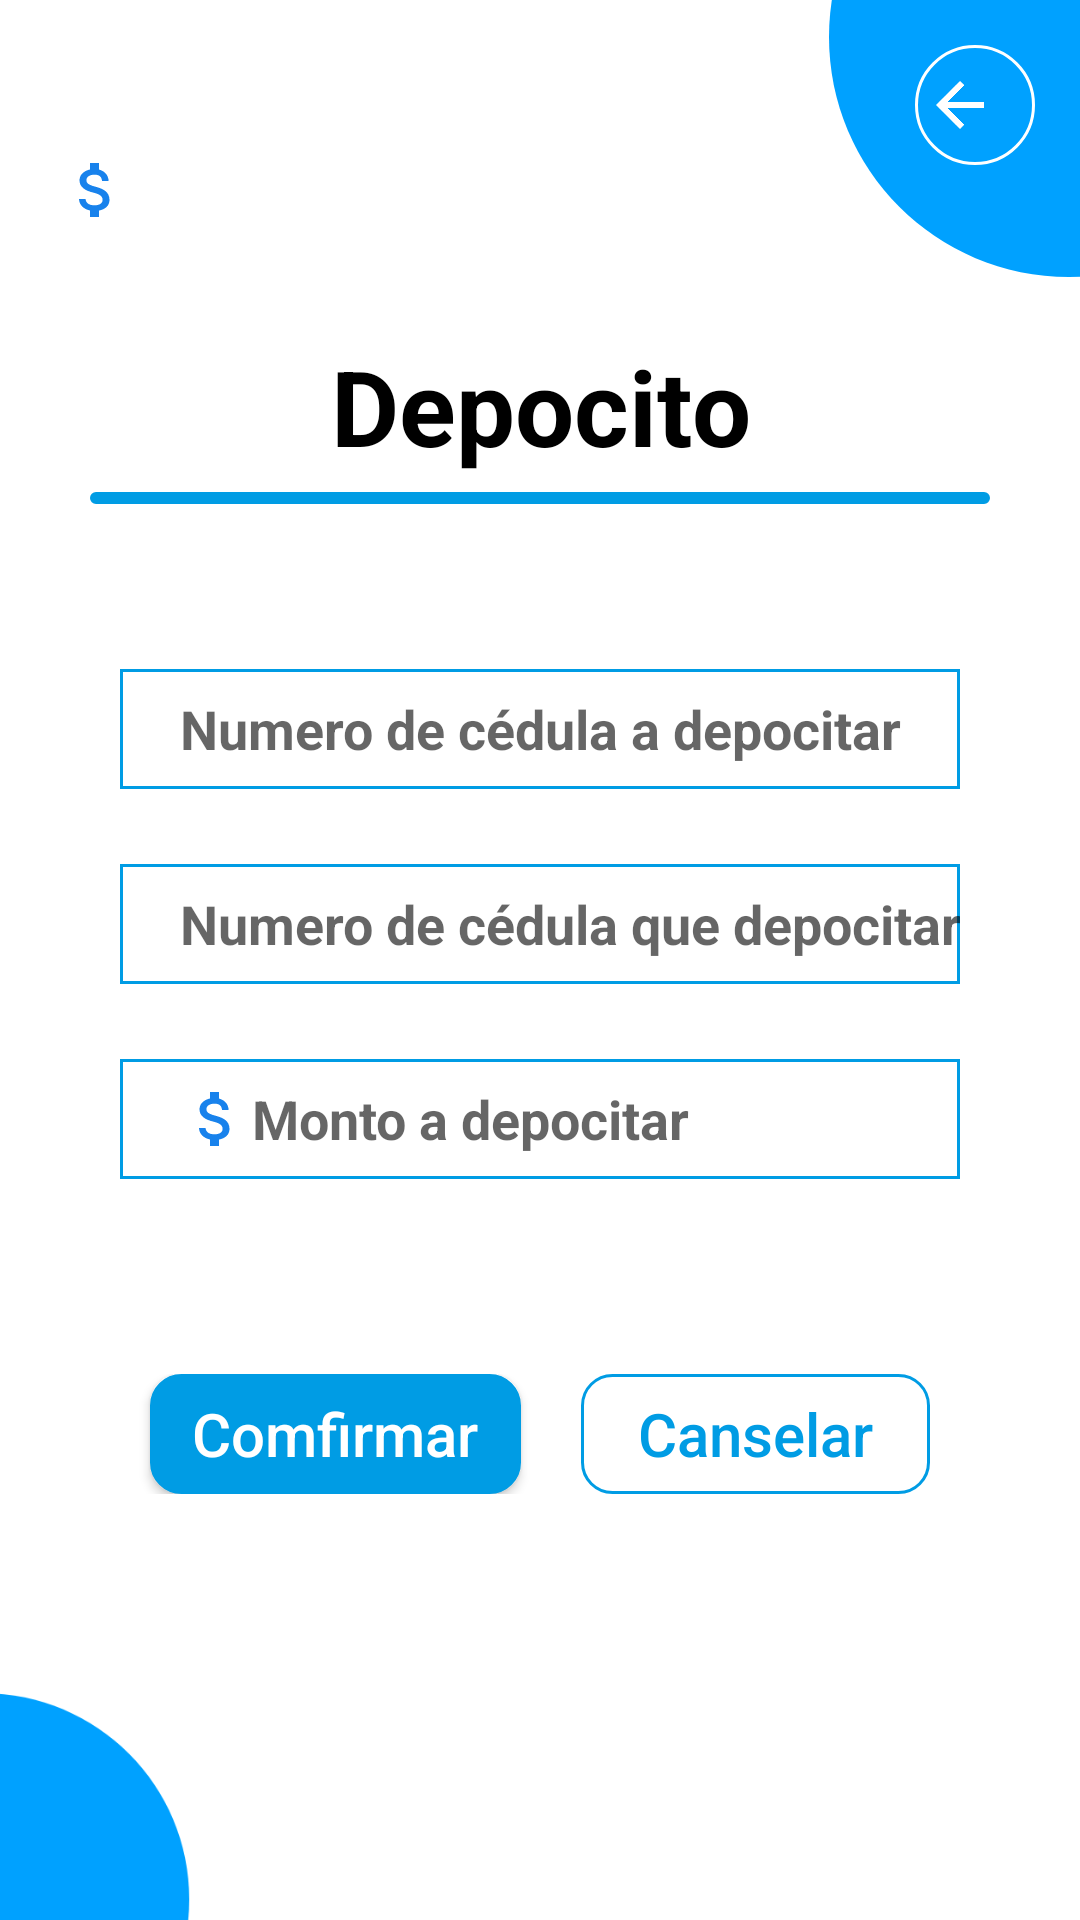

Icons on this 1080w x 1920h Android screen, each with its box as [left=x1, top=y1, right=x2, bottom=y2]:
back: [left=915, top=45, right=1035, bottom=165]
